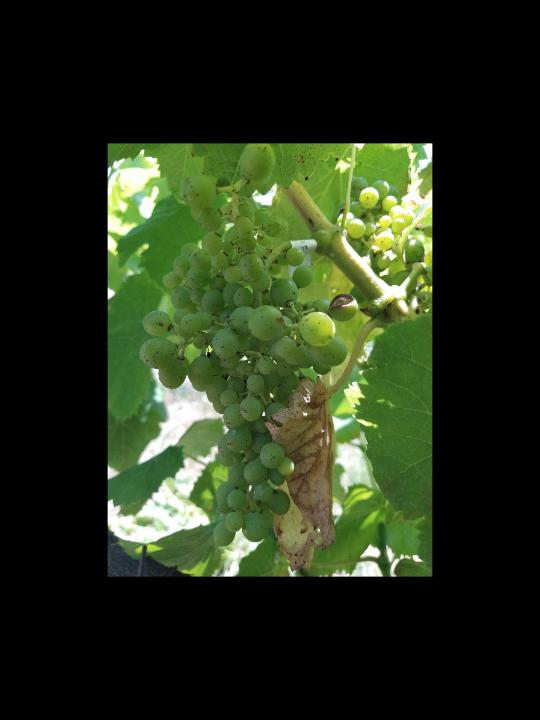grape: (138, 145, 361, 549)
